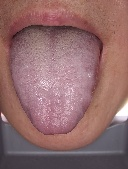tongue: (8, 34, 100, 137)
